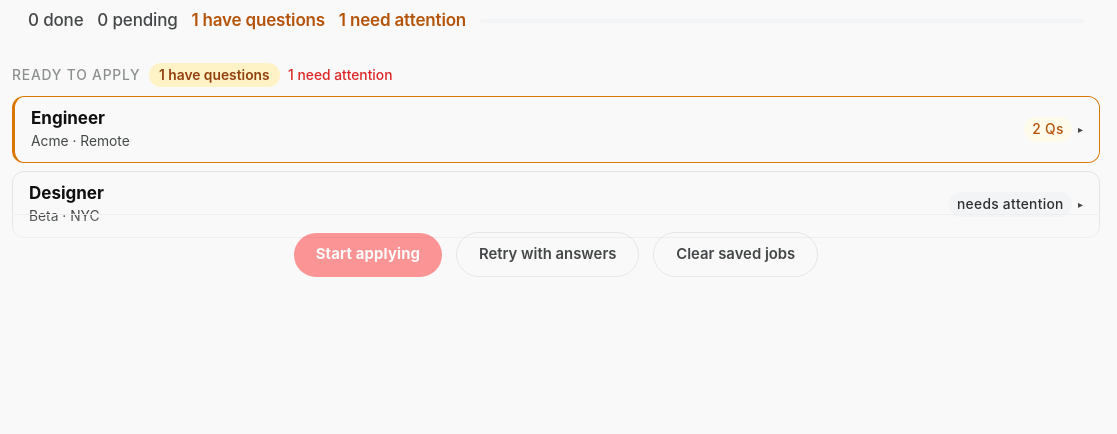
ApplyQueueTile — per-item buttons scope to item.id › stuck item does not show per-row Retry (uses inline answers instead)
Click the button "Engineer Acme · Remote 2 Qs ▸". click: (68, 118)
box: [15,97,1099,162]
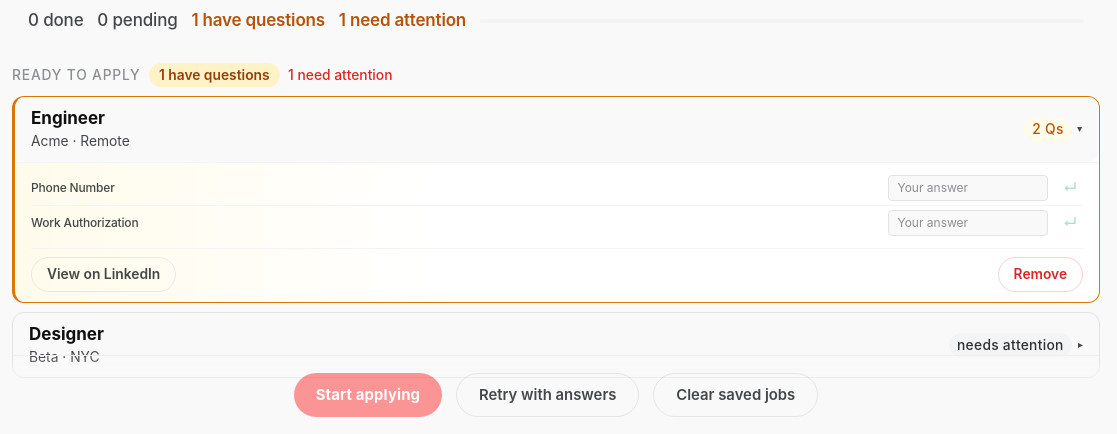
Check: the button with aria-label "Remove Engineer from Ready to apply" is shown, box [998,257,1083,292]
